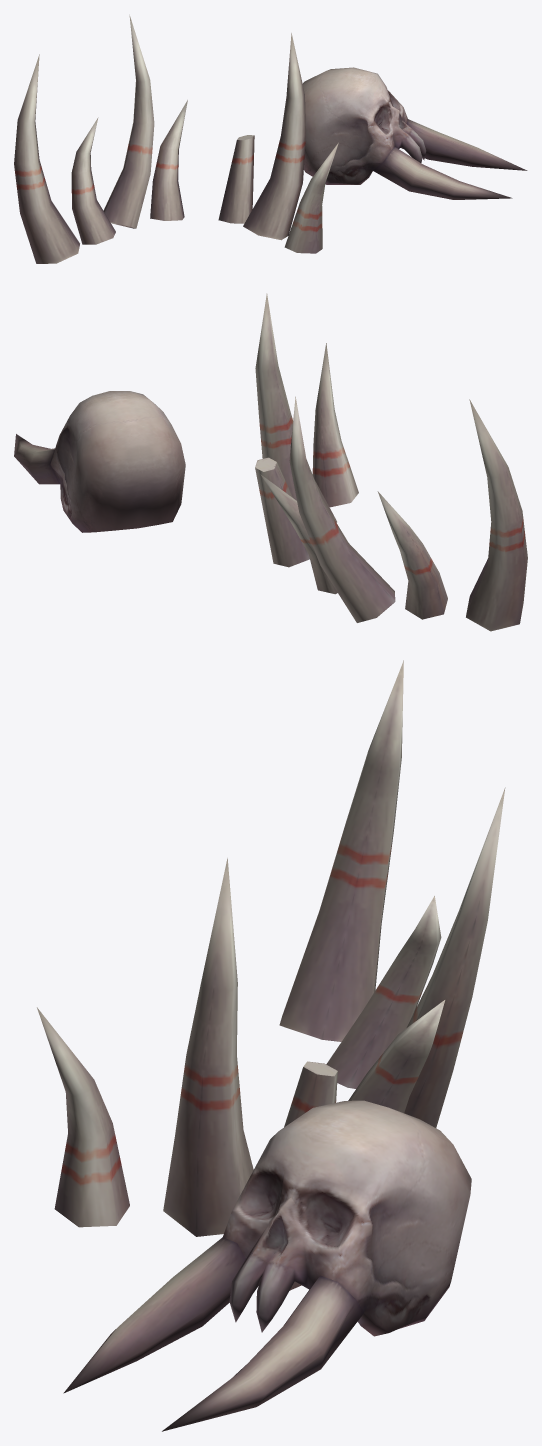
The model's file is area_07_16.fbx.
The picture shows the model from 3 angles, top to bottom: view 1: azimuth 30°, elevation 25°; view 2: azimuth 150°, elevation 25°; view 3: azimuth 270°, elevation 25°; orthographic projection. The views are drawn at different scales.
Parts seen in each view (by area): view 1: area_07_16; view 2: area_07_16; view 3: area_07_16.
Boxes of the visible parts, x1,y1,x2,y2 form: area_07_16: (14,15,527,263); area_07_16: (14,293,527,631); area_07_16: (37,660,505,1431).
Size of the model in its own units: 15.32 by 6.33 by 6.74.
